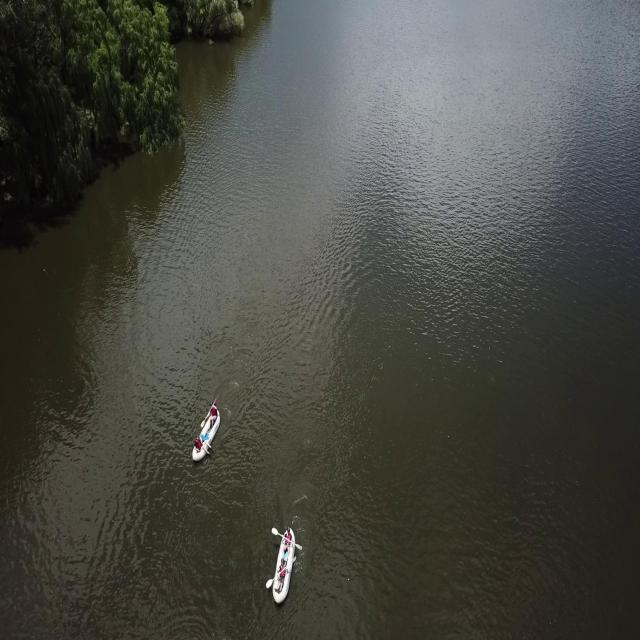kayak: (266, 526, 302, 603), (192, 402, 224, 465)
